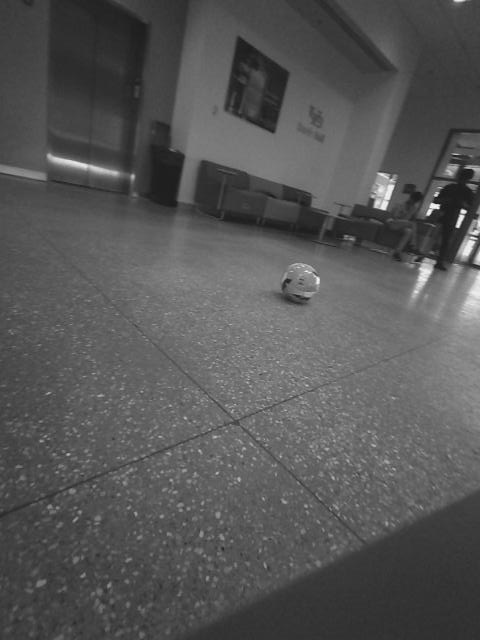ball: (277, 258, 323, 308)
